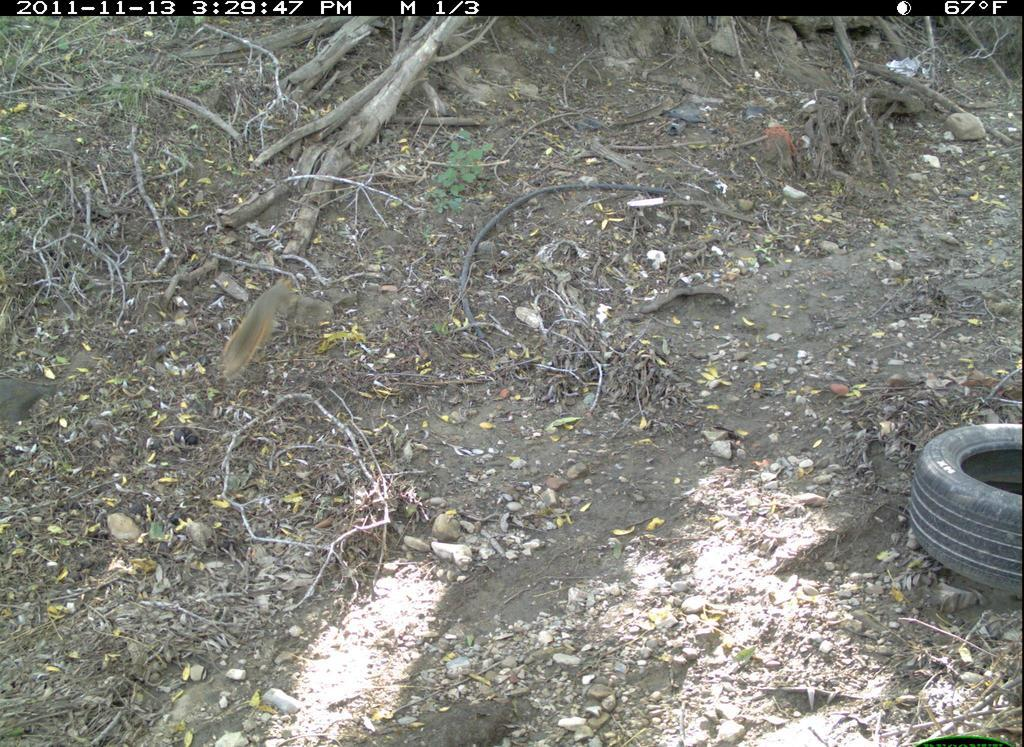squirrel: (210, 264, 315, 396)
